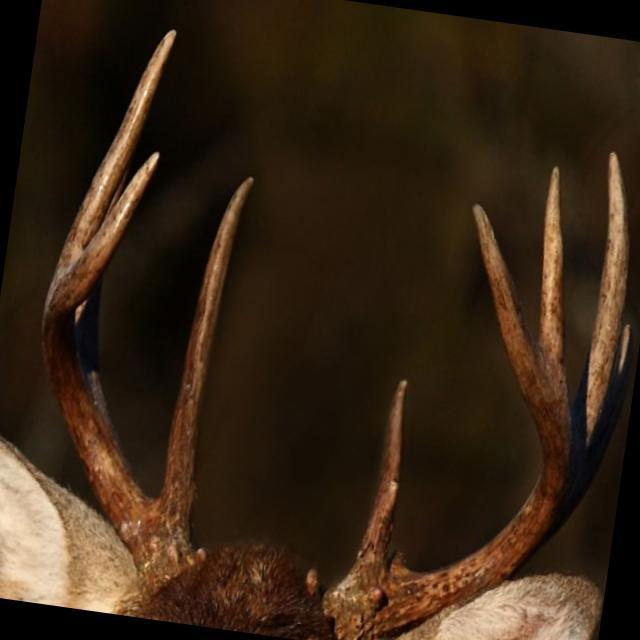L-F: (327, 203, 588, 640)
L-G1: (357, 378, 409, 566)
R-F: (39, 151, 191, 595)
R-G1: (161, 176, 255, 540)
